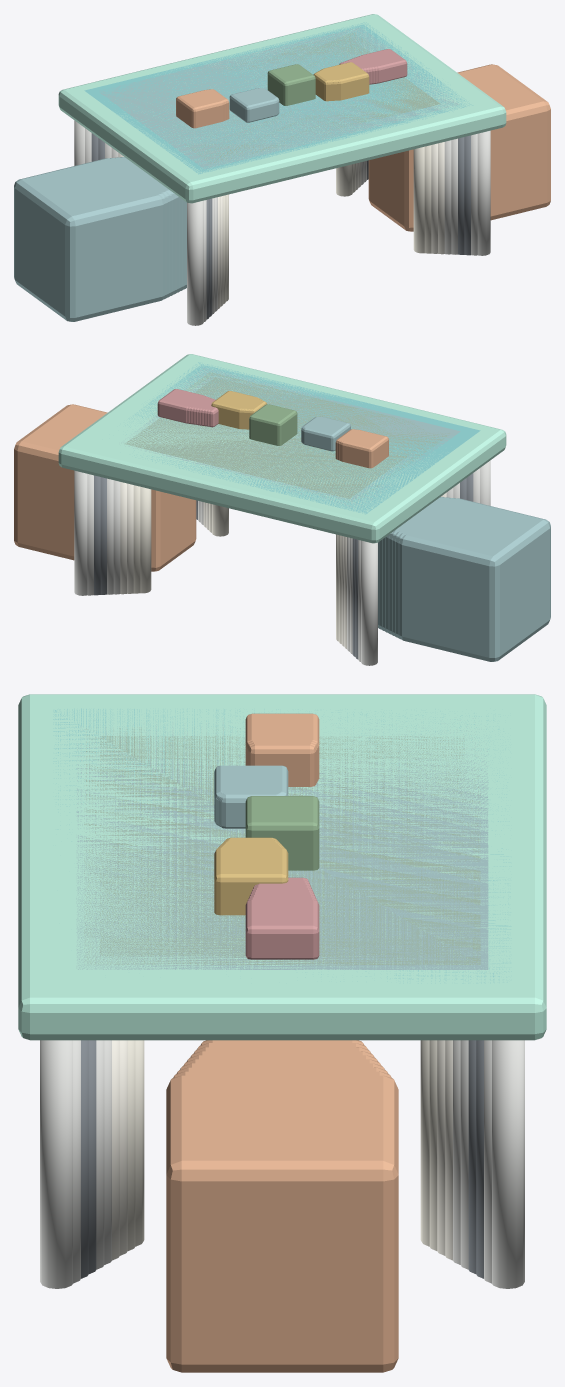
Rendered from Gear16.fbx.
The picture shows the model from 3 angles, top to bottom: view 1: azimuth 30°, elevation 25°; view 2: azimuth 150°, elevation 25°; view 3: azimuth 270°, elevation 25°; orthographic projection. The views are drawn at different scales.
Visible parts, largest first — view 1: Gear16_V10_Blue, Gear16_V6_Aqua, Gear16_V10_Glow, Gear16_V5_Blue, Gear16_V10_Apricot, Gear16_V4_Blue, Gear16_V9_Glow, Gear16_V10_Chrome, Gear16_V8_Glow, Gear16_V7_Aqua, Gear16_V1_Apricot, Gear16_V1_Sage (+22 smaller); view 2: Gear16_V10_Glow, Gear16_V10_Blue, Gear16_V1_Sage, Gear16_V10_Apricot, Gear16_V8_Glow, Gear16_V7_Aqua, Gear16_V6_Aqua, Gear16_V10_Chrome, Gear16_V3_Sage, Gear16_V4_Blue, Gear16_V2_Blue, Gear16_V1_Apricot (+21 smaller); view 3: Gear16_V10_Glow, Gear16_V10_Apricot, Gear16_V4_Blue, Gear16_V3_Sage, Gear16_V8_Glow, Gear16_V9_Glow, Gear16_V10_Chrome, Gear16_V2_Blue, Gear16_V1_Sage, Gear16_V1_Apricot, Gear16_V7_Apricot, Gear16_V8_Apricot (+21 smaller).
Boxes of the visible parts, box(x1,y1,x2,y2) form: Gear16_V10_Blue: box(14, 88, 277, 321); Gear16_V6_Aqua: box(105, 24, 473, 171); Gear16_V10_Glow: box(58, 14, 506, 203); Gear16_V5_Blue: box(91, 27, 455, 292); Gear16_V10_Apricot: box(176, 64, 550, 220); Gear16_V4_Blue: box(128, 30, 459, 290); Gear16_V9_Glow: box(93, 17, 493, 179); Gear16_V10_Chrome: box(74, 120, 490, 325); Gear16_V8_Glow: box(79, 19, 486, 176); Gear16_V7_Aqua: box(84, 22, 452, 174); Gear16_V1_Apricot: box(368, 149, 413, 231); Gear16_V1_Sage: box(165, 37, 440, 155); Gear16_V10_Glow: box(58, 354, 506, 543); Gear16_V10_Blue: box(303, 416, 550, 661); Gear16_V1_Sage: box(124, 377, 419, 498); Gear16_V10_Apricot: box(14, 404, 388, 560); Gear16_V8_Glow: box(101, 360, 486, 516); Gear16_V7_Aqua: box(135, 362, 480, 514); Gear16_V6_Aqua: box(125, 364, 465, 511); Gear16_V10_Chrome: box(74, 460, 490, 665); Gear16_V3_Sage: box(148, 372, 449, 502); Gear16_V4_Blue: box(183, 370, 460, 630); Gear16_V2_Blue: box(121, 375, 476, 526); Gear16_V1_Apricot: box(151, 489, 196, 571); Gear16_V10_Glow: box(18, 694, 546, 1040); Gear16_V10_Apricot: box(166, 713, 398, 1372); Gear16_V4_Blue: box(76, 722, 488, 969); Gear16_V3_Sage: box(84, 727, 480, 965); Gear16_V8_Glow: box(45, 704, 519, 988); Gear16_V9_Glow: box(37, 699, 527, 992); Gear16_V10_Chrome: box(40, 1040, 524, 1288); Gear16_V2_Blue: box(92, 731, 472, 960); Gear16_V1_Sage: box(100, 736, 464, 956); Gear16_V1_Apricot: box(201, 1040, 363, 1097); Gear16_V7_Apricot: box(180, 722, 384, 1139); Gear16_V8_Apricot: box(177, 719, 387, 1146).
Bounding box in the file's own units: 144 × 48.5 × 68.
